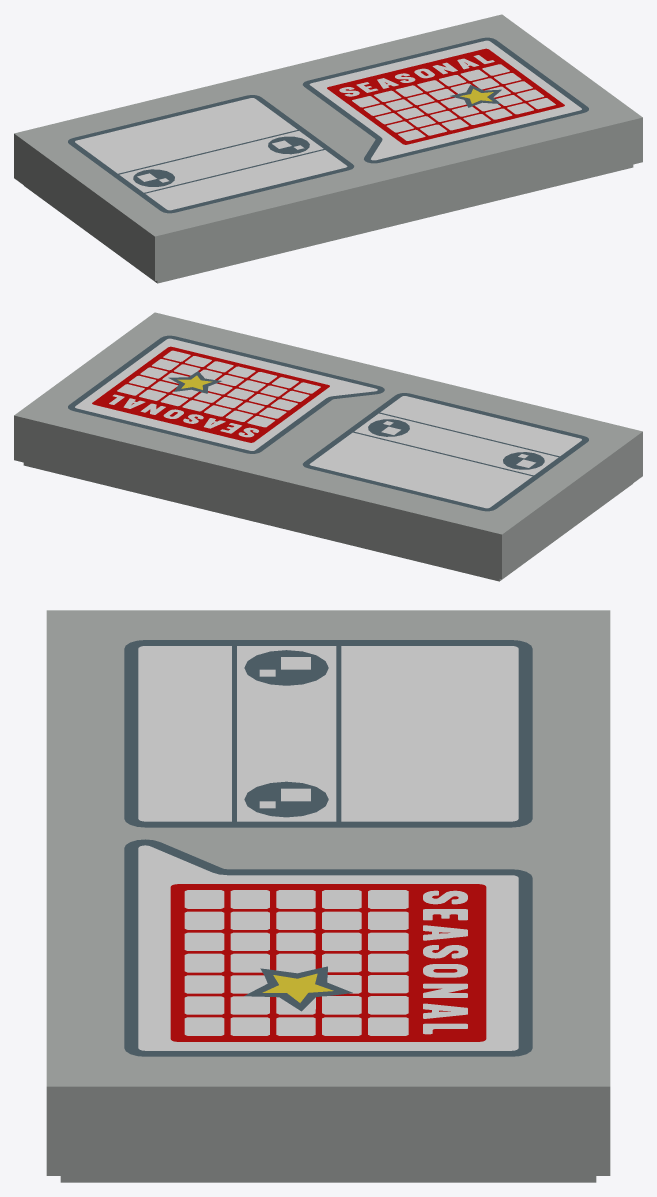
3 renders of one model, top to bottom at view 1: azimuth 30°, elevation 25°; view 2: azimuth 150°, elevation 25°; view 3: azimuth 270°, elevation 25°, orthographic. The views are drawn at different scales.
Parts seen in each view (by area): view 1: world; view 2: world; view 3: world.
Part boxes in pixels (x1,y1,x2,y2): world: [14, 14, 642, 283]; world: [14, 312, 642, 581]; world: [46, 610, 610, 1182].
Size of the model in its own units: 0.032 by 0.0032 by 0.016.
